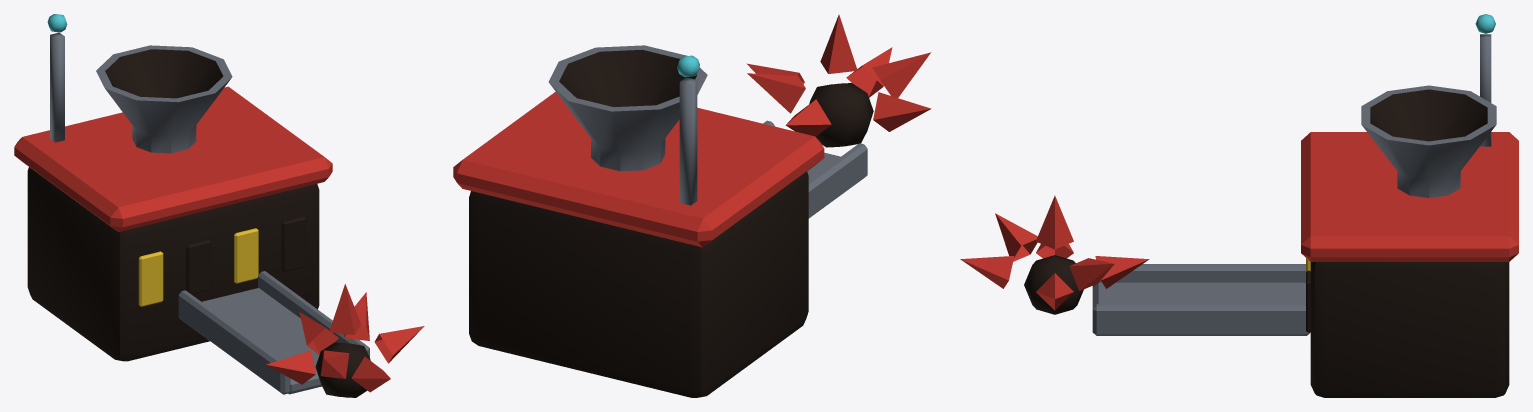
The picture shows the model from 3 angles, left to right: view 1: azimuth 30°, elevation 25°; view 2: azimuth 150°, elevation 25°; view 3: azimuth 270°, elevation 25°; orthographic projection. The views are drawn at different scales.
Parts seen in each view (by area): view 1: espinhos_0_base, espinhos_1_torreta; view 2: espinhos_0_base, espinhos_1_torreta; view 3: espinhos_0_base, espinhos_1_torreta.
Part boxes in pixels (x1=…): espinhos_0_base: x1=14, y1=14, x2=424, y2=397; espinhos_1_torreta: x1=178, y1=271, x2=369, y2=394; espinhos_0_base: x1=453, y1=14, x2=931, y2=397; espinhos_1_torreta: x1=763, y1=120, x2=867, y2=218; espinhos_0_base: x1=960, y1=14, x2=1518, y2=397; espinhos_1_torreta: x1=1092, y1=264, x2=1310, y2=335.
Size of the model in its own units: 0.56 by 0.6918 by 1.18.
